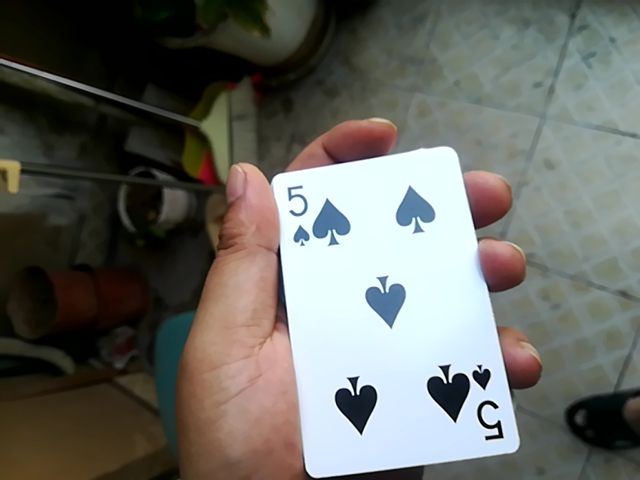ht 5: (260, 141, 514, 480)
